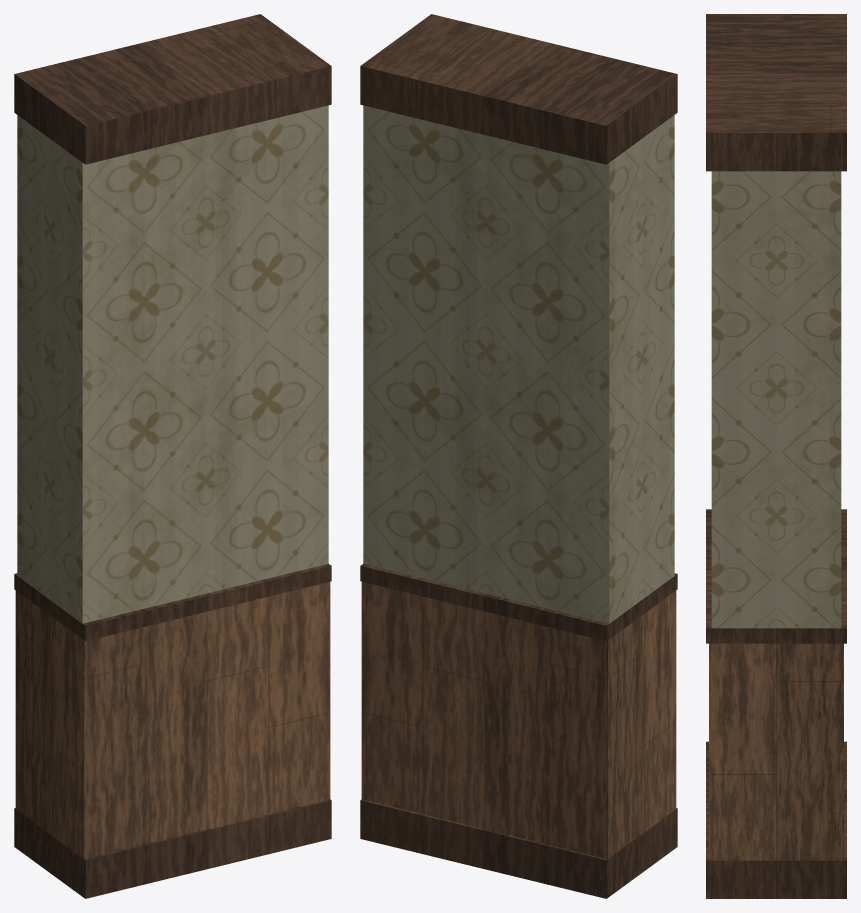
Rendered from EST_MuroMedio.fbx.
3 views of the same model, side by side, from view 1: azimuth 30°, elevation 25°; view 2: azimuth 150°, elevation 25°; view 3: azimuth 270°, elevation 25° (orthographic).
Visible parts, largest first — view 1: EST_MuroMedio; view 2: EST_MuroMedio; view 3: EST_MuroMedio.
Part boxes in pixels (x1,y1,x2,y2): EST_MuroMedio: [14, 14, 331, 898]; EST_MuroMedio: [360, 14, 677, 898]; EST_MuroMedio: [706, 14, 846, 898].
Size of the model in its own units: 1 by 3 by 0.5.
